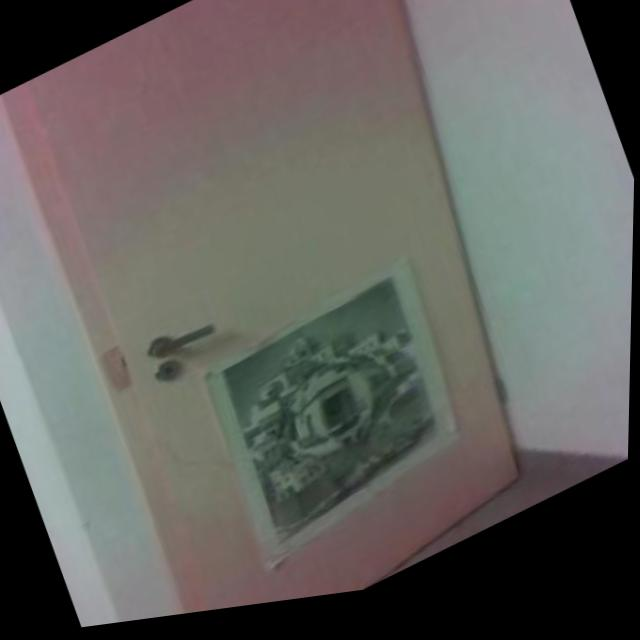door_handle: (145, 313, 230, 375)
